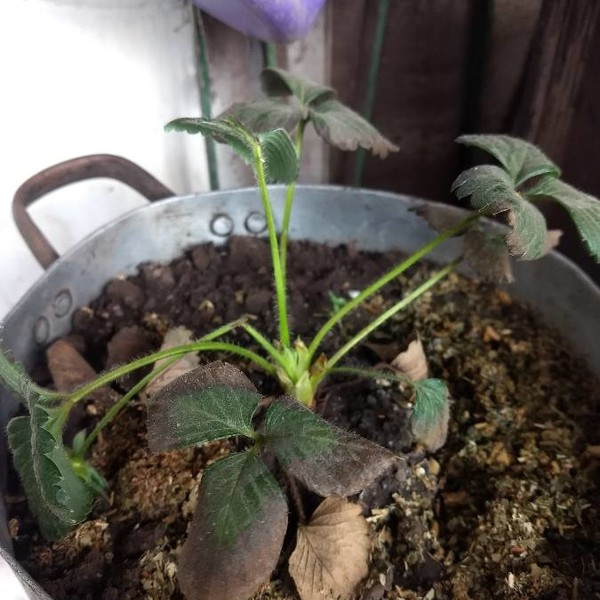obstacle: (21, 68, 580, 576)
